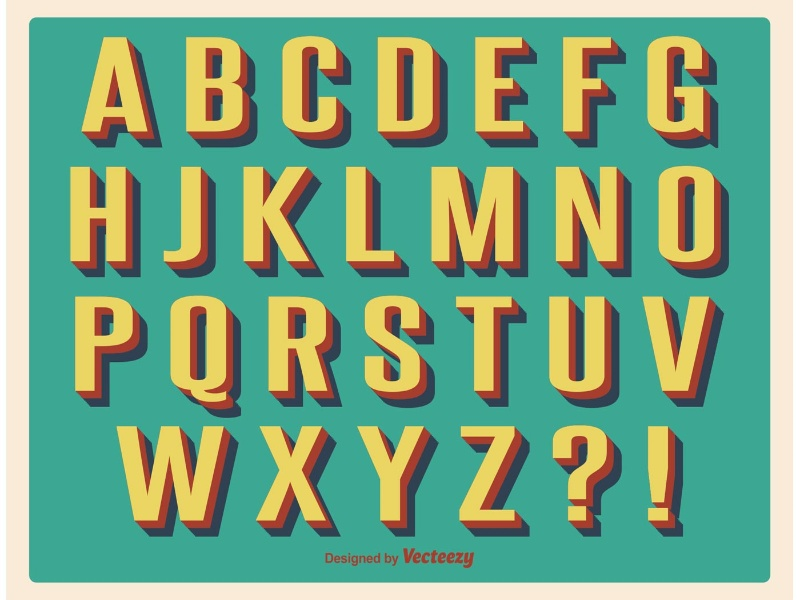letter: (107, 420, 250, 549), (427, 160, 542, 279), (66, 33, 173, 154), (233, 162, 336, 287), (635, 290, 746, 402), (639, 28, 731, 157), (54, 161, 155, 278), (175, 31, 268, 156), (59, 286, 152, 411), (355, 420, 448, 543), (164, 291, 255, 415), (550, 165, 644, 285), (653, 165, 747, 282), (543, 290, 632, 411), (274, 32, 360, 157), (452, 287, 533, 419), (255, 425, 344, 543), (370, 28, 452, 154), (266, 298, 352, 413), (470, 28, 548, 154), (457, 427, 541, 544), (358, 294, 440, 412), (552, 419, 625, 543), (556, 28, 624, 160), (343, 163, 416, 283), (640, 419, 701, 550), (163, 164, 225, 282)
